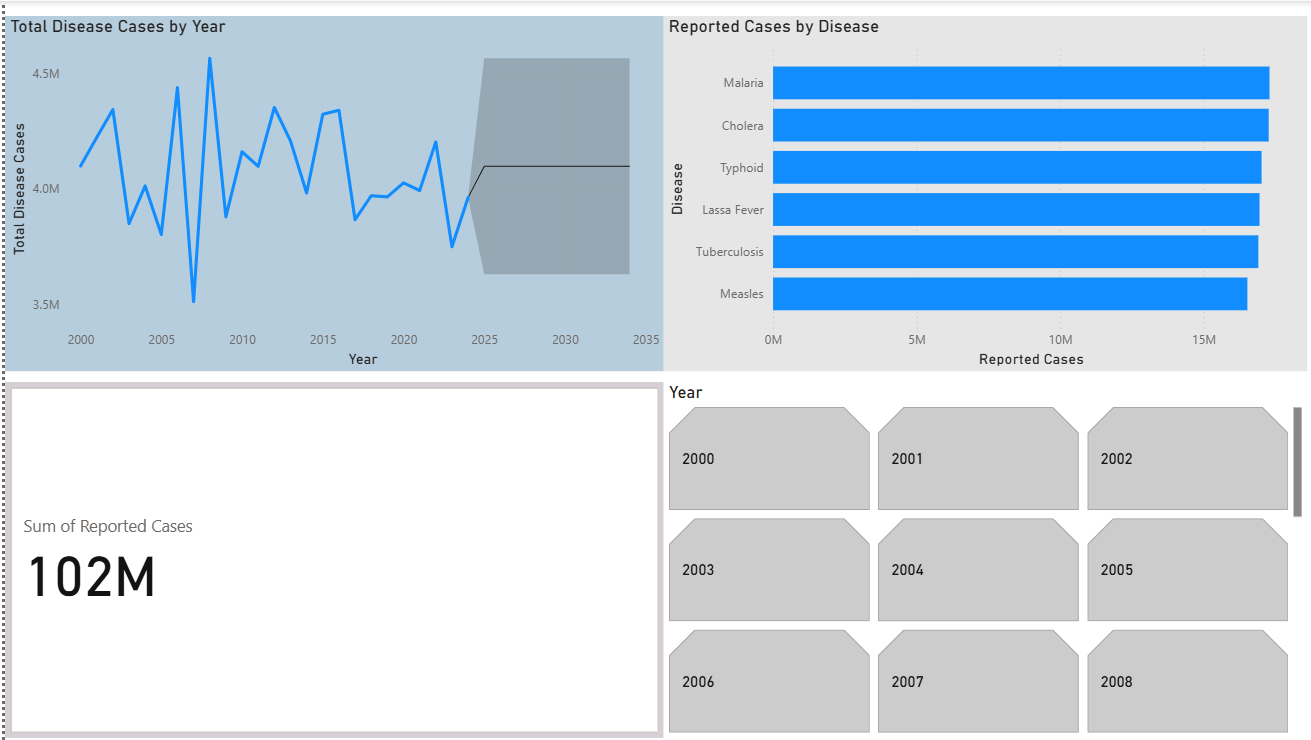

The page's visual inventory and layout, read from the dashboard file:
{"tool":"powerbi","page":{"name":"National Disease Trend Dashboard","canvas":[1280,720],"ordinal":2},"visuals":[{"type":"lineChart","fields":{"Category":["Most Reported Diseases in Nigeria DAWB Project - Nigeria Hospital Health Data.Year"],"Y":["Sum(Most Reported Diseases in Nigeria DAWB Project - Nigeria Hospital Health Data.Reported Cases)"]},"box":[0,14.9,639.4,344.6],"z":0},{"type":"barChart","fields":{"Category":["Most Reported Diseases in Nigeria DAWB Project - Nigeria Hospital Health Data.Disease"],"Y":["Sum(Most Reported Diseases in Nigeria DAWB Project - Nigeria Hospital Health Data.Reported Cases)"]},"box":[639.4,14.9,624.5,344.6],"z":1000},{"type":"cardVisual","fields":{"Data":["Sum(Most Reported Diseases in Nigeria DAWB Project - Nigeria Hospital Health Data.Reported Cases)"]},"box":[0,370,639,345],"z":2000},{"type":"advancedSlicerVisual","fields":{"Values":["Most Reported Diseases in Nigeria DAWB Project - Nigeria Hospital Health Data.Year"]},"box":[639.4,369.5,624.5,345.8],"z":3000}]}

Visuals, with their boxes in screenshot pixels (x1, y1, x2, y2), scaled from the page's 1280x720 canvas onto the 1311x740 screenshot:
lineChart - Most Reported Diseases in Nigeria DAWB Project - Nigeria Hospital Health Data.Year x Sum(Most Reported Diseases in Nigeria DAWB Project - Nigeria Hospital Health Data.Reported Cases): BBox(0, 15, 655, 369)
barChart - Most Reported Diseases in Nigeria DAWB Project - Nigeria Hospital Health Data.Disease x Sum(Most Reported Diseases in Nigeria DAWB Project - Nigeria Hospital Health Data.Reported Cases): BBox(655, 15, 1295, 369)
cardVisual - Sum(Most Reported Diseases in Nigeria DAWB Project - Nigeria Hospital Health Data.Reported Cases): BBox(0, 380, 654, 735)
advancedSlicerVisual - Most Reported Diseases in Nigeria DAWB Project - Nigeria Hospital Health Data.Year: BBox(655, 380, 1295, 735)
